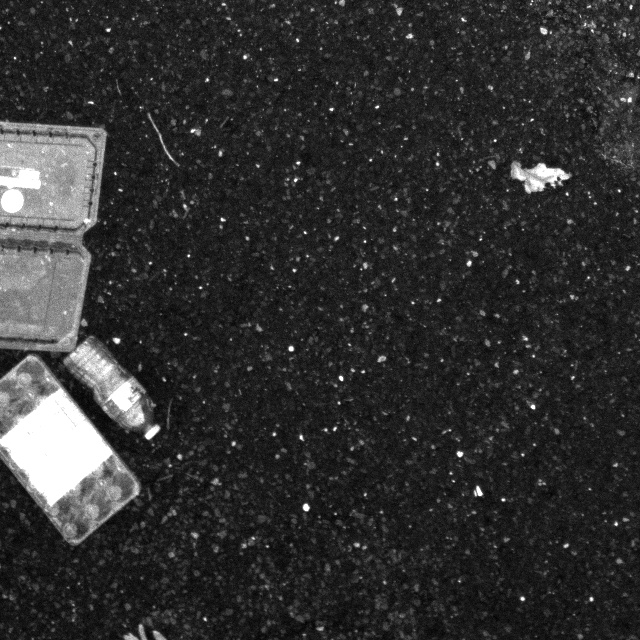bottle: (60, 322, 167, 450)
container: (0, 338, 153, 558), (0, 105, 119, 358)
